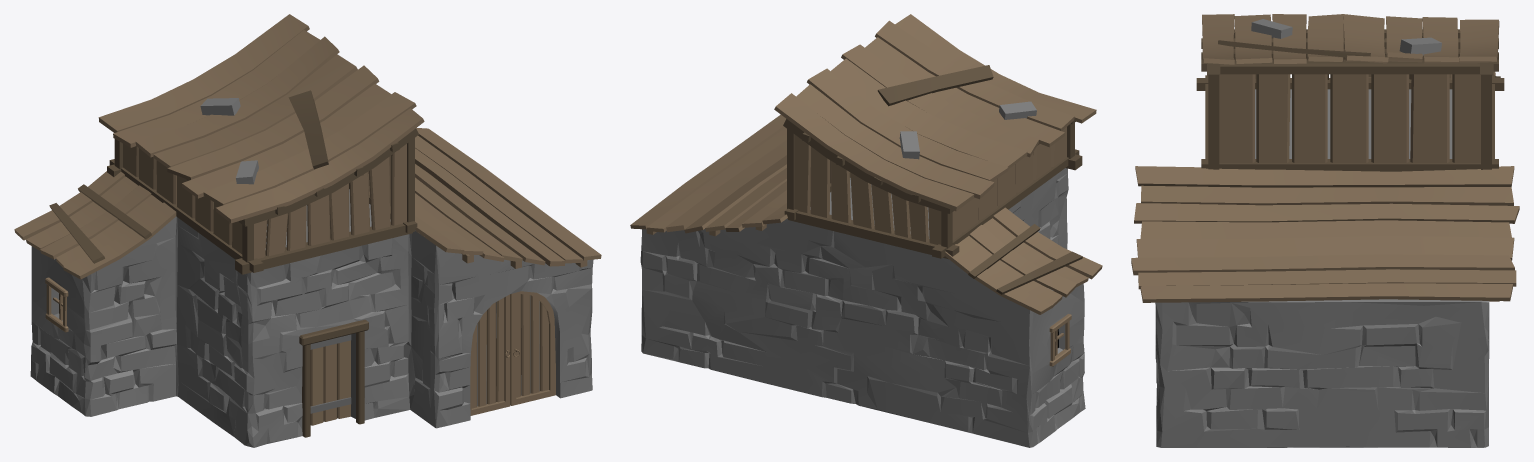
File: village_stone_house_b.FBX
3 renders of one model, left to right at view 1: azimuth 30°, elevation 25°; view 2: azimuth 150°, elevation 25°; view 3: azimuth 270°, elevation 25°, orthographic. The views are drawn at different scales.
Parts seen in each view (by area): view 1: village_stone_house_b; view 2: village_stone_house_b; view 3: village_stone_house_b.
Boxes of the visible parts, x1=… form: village_stone_house_b: x1=14, y1=14, x2=601, y2=447; village_stone_house_b: x1=630, y1=14, x2=1102, y2=447; village_stone_house_b: x1=1131, y1=14, x2=1519, y2=447.
Size of the model in its own units: 9.42 by 6.31 by 6.98.
